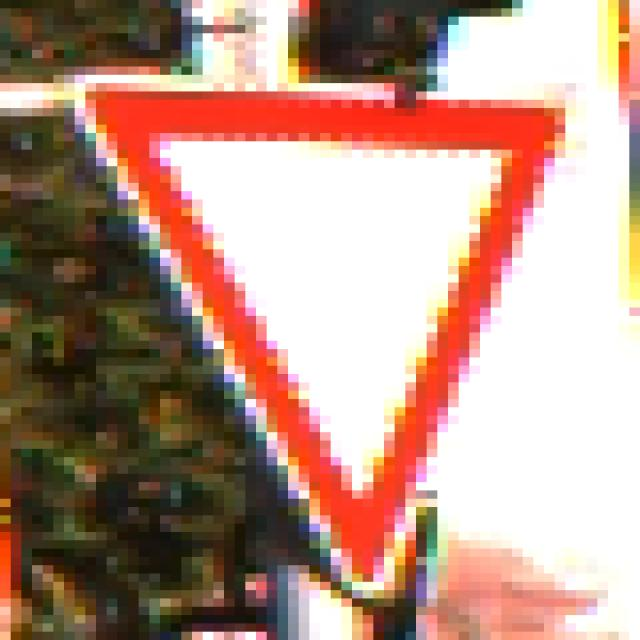Give Way: (65, 59, 577, 591)
